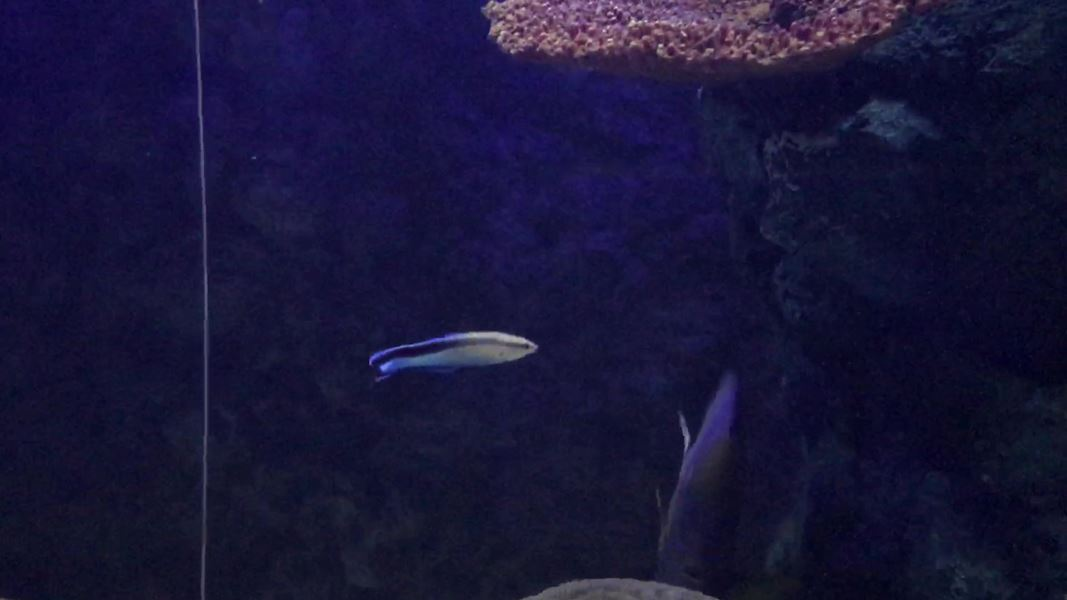Bluesteak cleaner wrasse: (362, 325, 549, 402)
